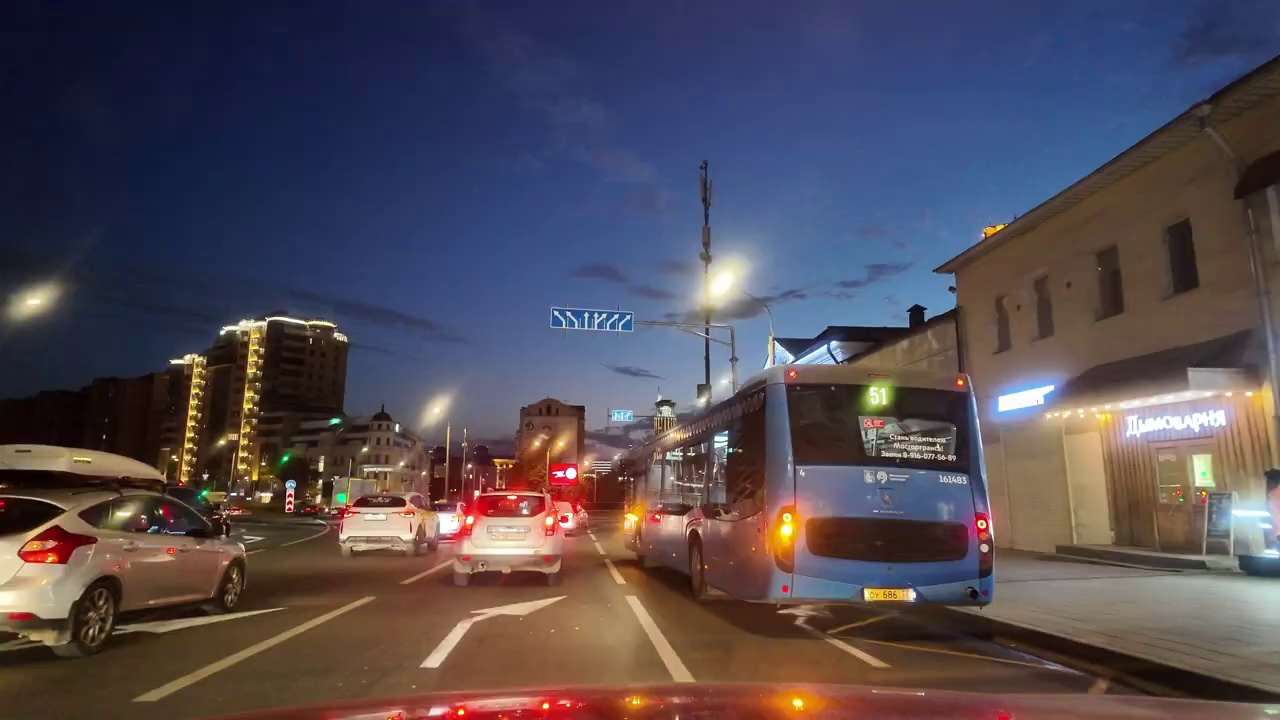acesa: (6, 280, 60, 327), (702, 257, 746, 306), (418, 390, 453, 430)
